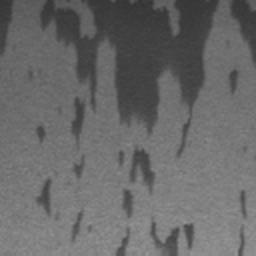Red iron sheet: (0, 0, 256, 256), (238, 188, 247, 256), (35, 179, 51, 215), (70, 211, 83, 242), (73, 156, 84, 178), (35, 124, 46, 141)
